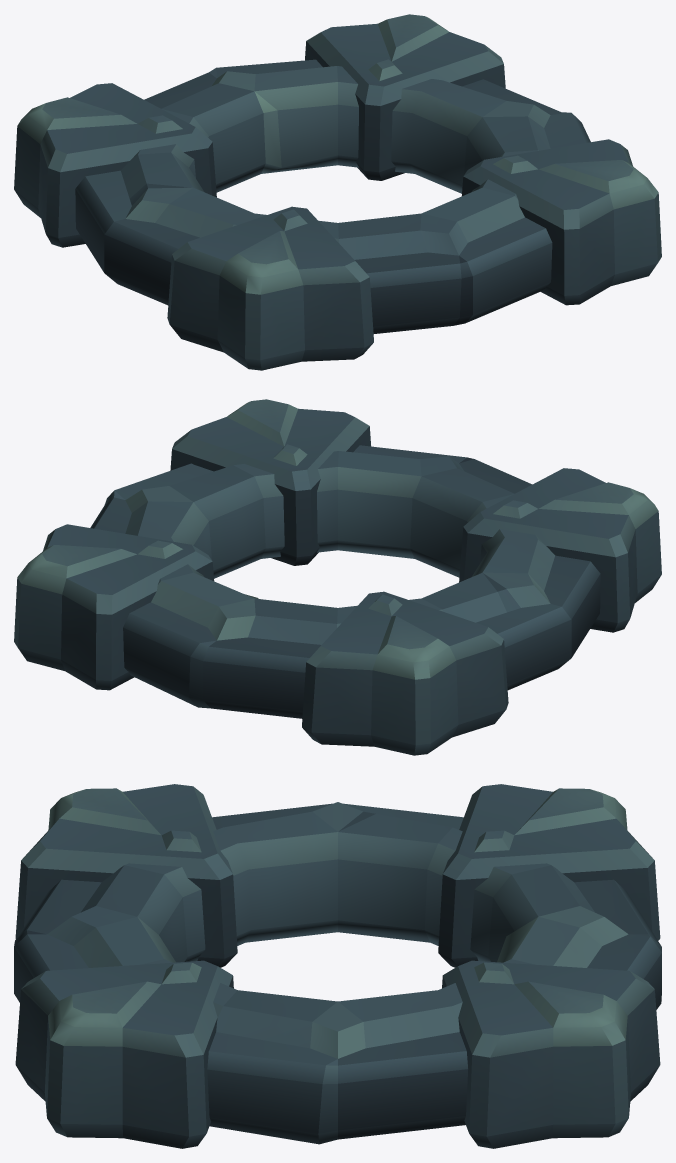
File: floor_deco_element_1.fbx
3 renders of one model, top to bottom at view 1: azimuth 30°, elevation 25°; view 2: azimuth 150°, elevation 25°; view 3: azimuth 270°, elevation 25°, orthographic. The views are drawn at different scales.
Parts seen in each view (by area): view 1: floor_deco_element_1; view 2: floor_deco_element_1; view 3: floor_deco_element_1.
Boxes of the visible parts, x1,y1,x2,y2 form: floor_deco_element_1: (14, 14, 661, 370); floor_deco_element_1: (14, 399, 661, 755); floor_deco_element_1: (14, 784, 661, 1148).
Size of the model in its own units: 305 by 60.71 by 302.
